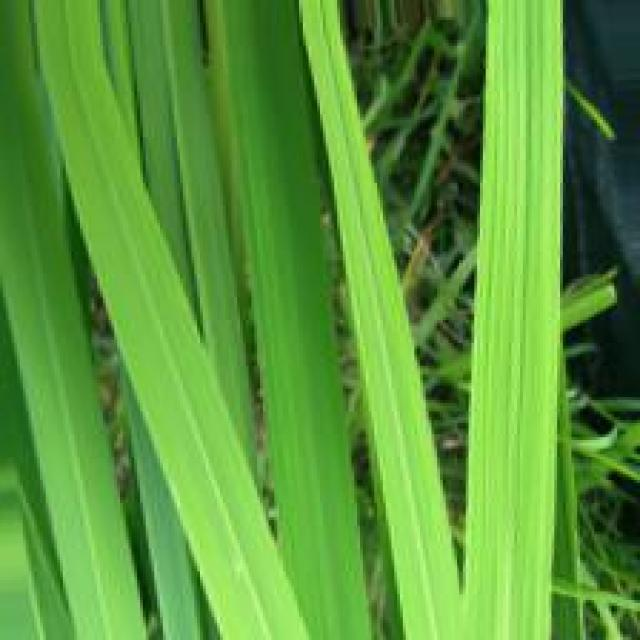HealthyLeaf: (76, 181, 287, 625), (227, 8, 360, 612), (0, 176, 133, 610), (470, 14, 558, 539), (336, 182, 444, 530)
